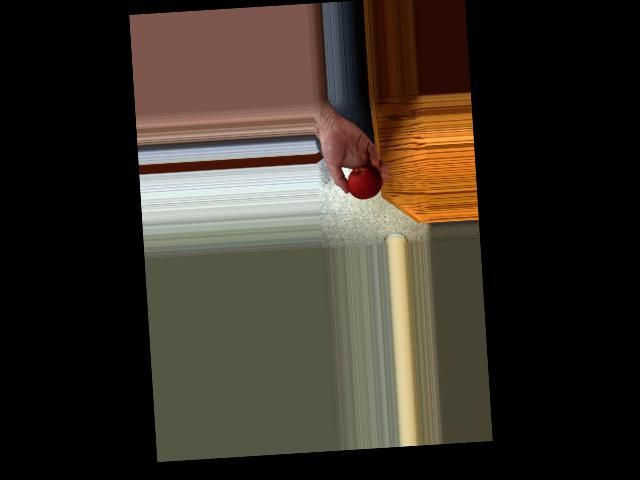apple: (344, 162, 383, 200)
